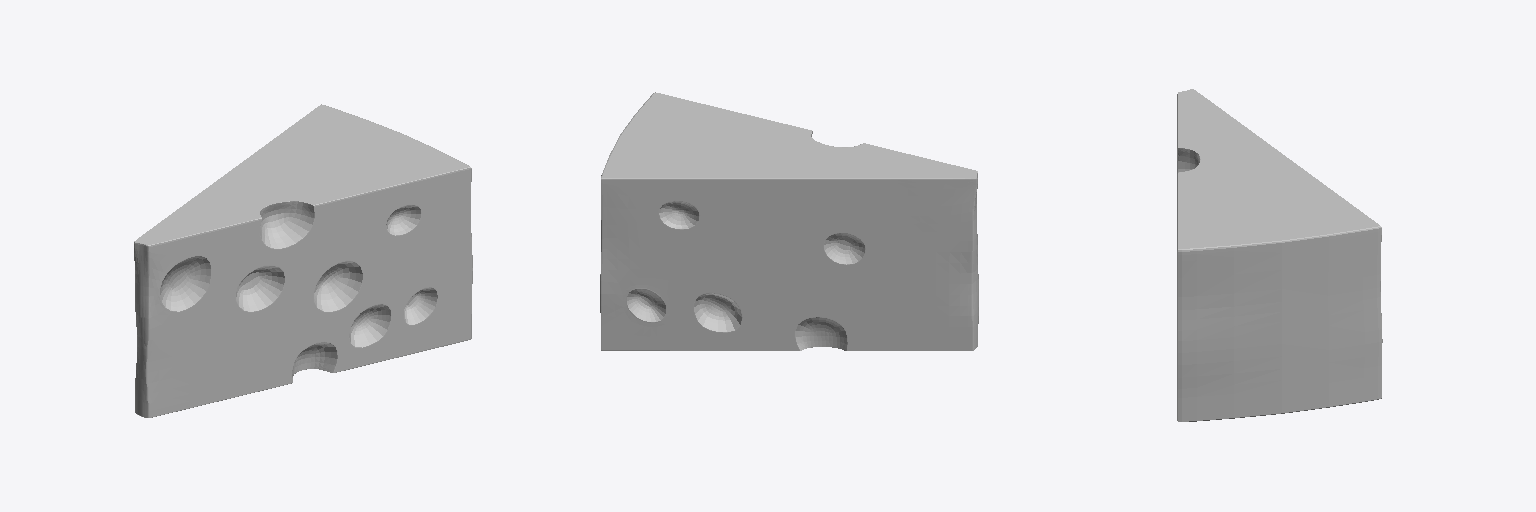
The model's file is cheese_triangle.obj.
The picture shows the model from 3 angles: view 1: azimuth 30°, elevation 25°; view 2: azimuth 150°, elevation 25°; view 3: azimuth 270°, elevation 25°; orthographic projection.
Visible parts, largest first — view 1: poct_cheese_body; view 2: poct_cheese_body; view 3: poct_cheese_body.
Boxes of the visible parts, x1=… form: poct_cheese_body: x1=134, y1=104, x2=472, y2=417; poct_cheese_body: x1=600, y1=92, x2=978, y2=350; poct_cheese_body: x1=1177, y1=89, x2=1382, y2=421.
Bounding box in the file's own units: 0.1455 × 0.0726 × 0.0779.